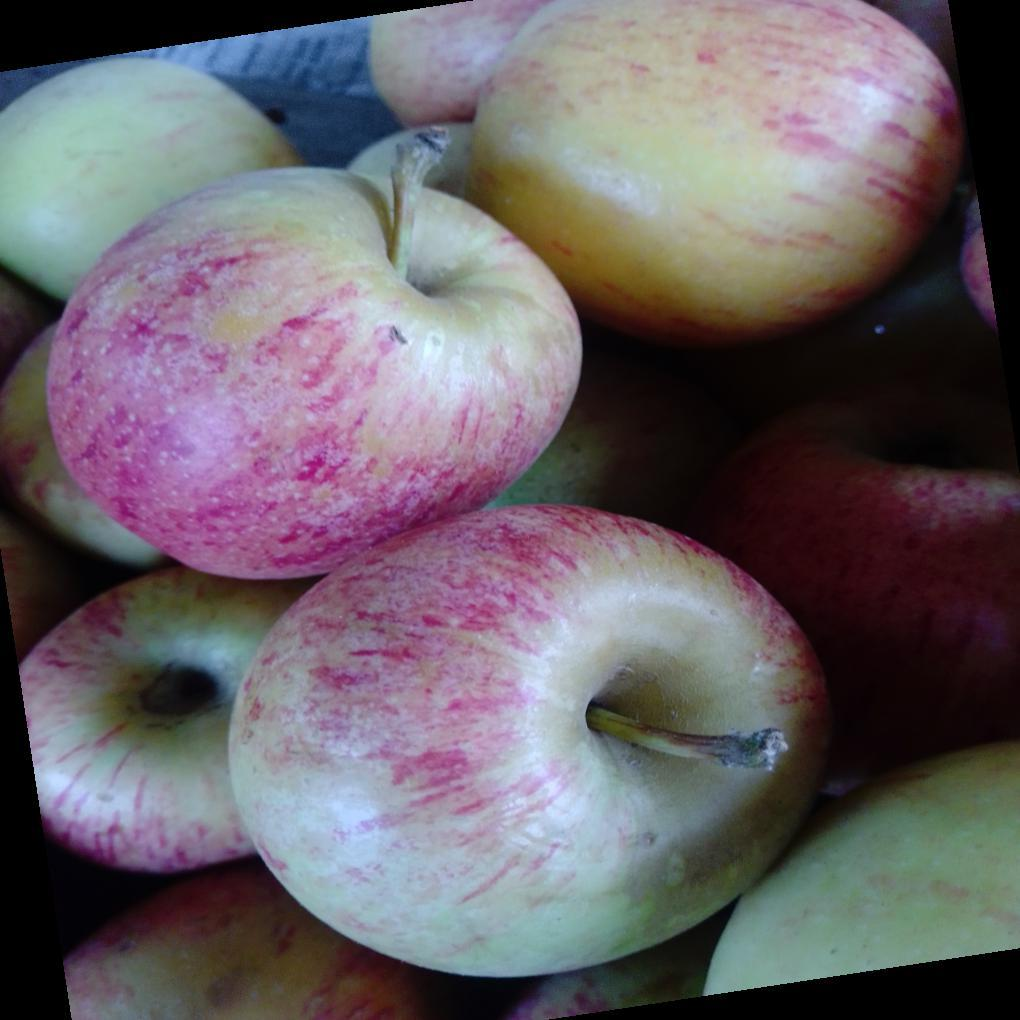FreshGuava: (6, 0, 1020, 984)
